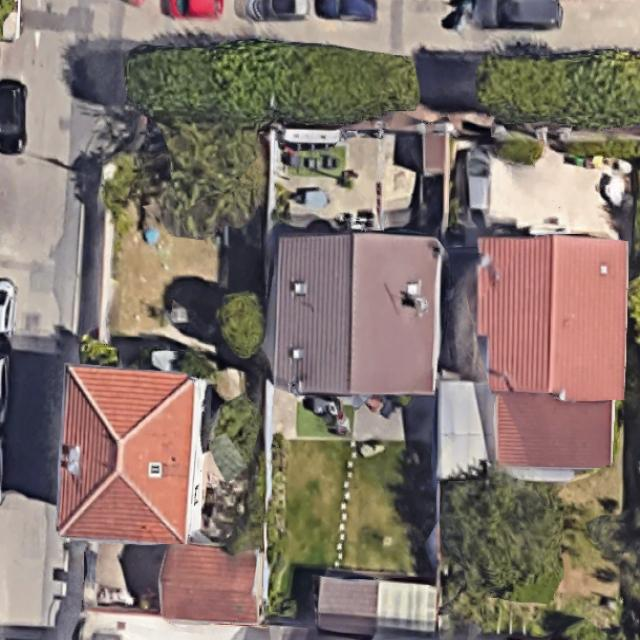maison: (474, 234, 626, 472), (267, 229, 444, 395), (54, 366, 210, 547), (159, 545, 262, 625)
